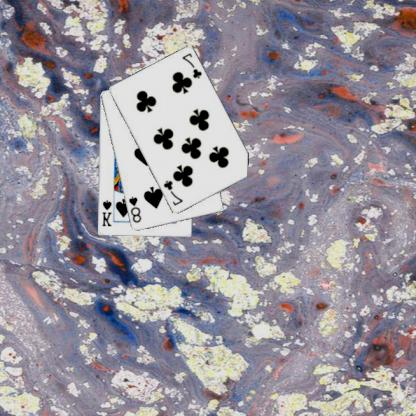7C: (162, 178, 186, 208), (180, 50, 204, 80)
8S: (128, 194, 144, 224)
KS: (101, 197, 115, 228)
